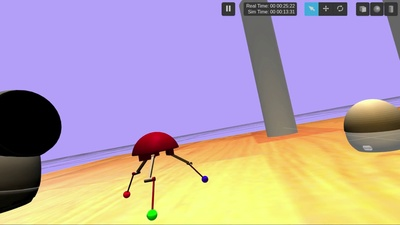mira_robot: (344, 99, 400, 153)
